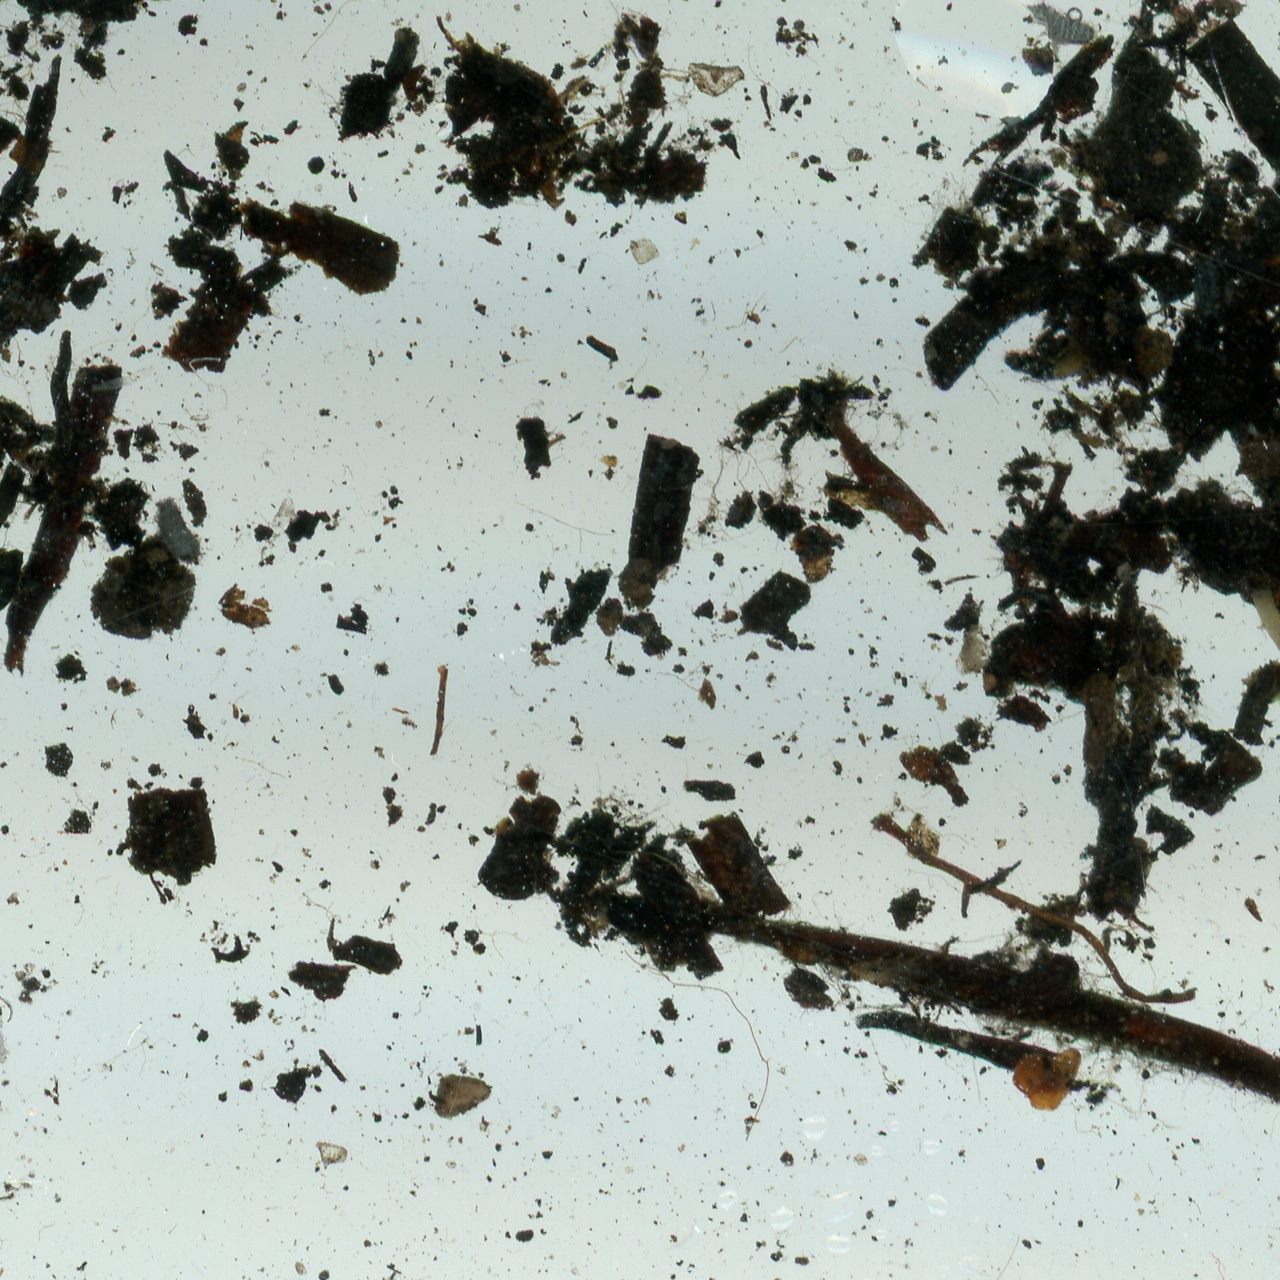arthropod: (142, 488, 213, 580), (1020, 0, 1103, 52), (55, 1260, 166, 1280)
